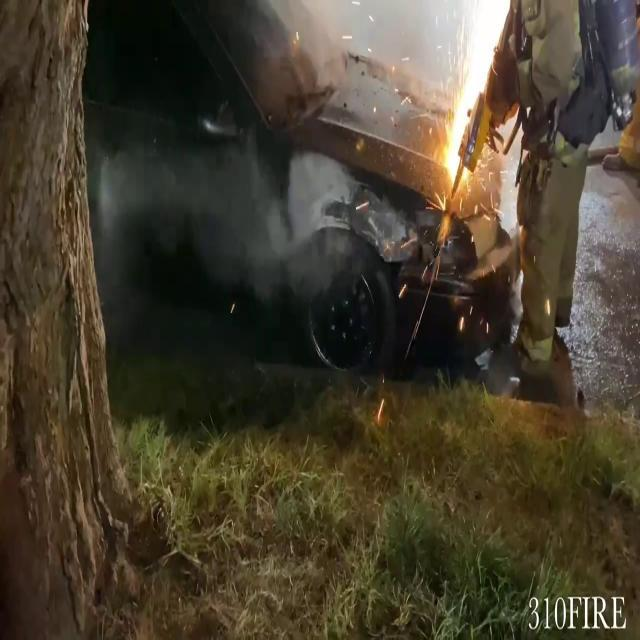Fire: (440, 2, 508, 187)
Smoke: (91, 132, 332, 304)
